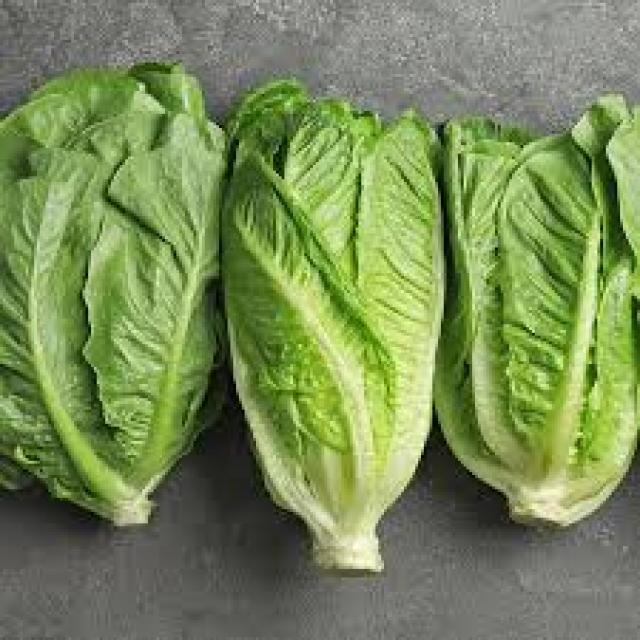Lettuce: (223, 80, 445, 572), (0, 67, 225, 530), (430, 87, 640, 538)
